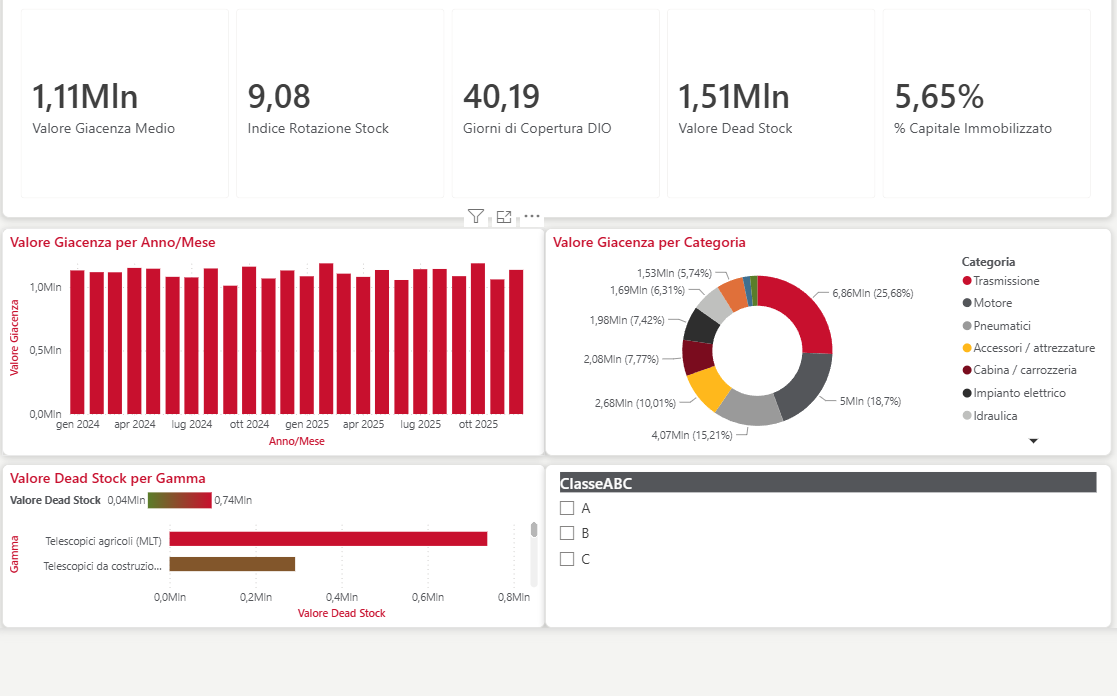

What the dashboard file says about the page in this screenshot:
{"tool":"powerbi","page":{"name":"3 - Inventario","canvas":[1280,720],"ordinal":2},"visuals":[{"type":"cardVisual","fields":{"Data":["fact_inventory_snapshot.Valore Giacenza Medio","fact_inventory_snapshot.Indice Rotazione Stock","fact_inventory_snapshot.Giorni di Copertura DIO","fact_inventory_snapshot.Valore Dead Stock","fact_inventory_snapshot.% Capitale Immobilizzato"]},"box":[9.7,0,1251.8,256.8],"z":0},{"type":"lineChart","fields":{"Category":["dim_date.AnnoMese"],"Y":["fact_inventory_snapshot.Valore Giacenza"]},"box":[9.7,268.4,612.8,256.8],"z":1000},{"type":"clusteredBarChart","fields":{"Category":["dim_product_family.Gamma"],"Y":["fact_inventory_snapshot.Valore Dead Stock"]},"box":[10,535,440,185],"z":2000},{"type":"clusteredBarChart","fields":{"Category":["dim_part_category.Categoria"],"Y":["fact_inventory_snapshot.Valore Giacenza"]},"box":[623,268,639,452],"z":3000},{"type":"slicer","fields":{"Values":["dim_part.ClasseABC"]},"box":[462,535,150,185],"z":4000}]}

Visuals, with their boxes on the page's 1280x720 design canvas (x1, y1, x2, y2). These are canvas units, not pixel positions in the 1117x696 screenshot, which may show the page scaled, cropped or inside an application window:
cardVisual - fact_inventory_snapshot.Valore Giacenza Medio x fact_inventory_snapshot.Indice Rotazione Stock: 10/0/1262/257
lineChart - dim_date.AnnoMese x fact_inventory_snapshot.Valore Giacenza: 10/268/622/525
clusteredBarChart - dim_product_family.Gamma x fact_inventory_snapshot.Valore Dead Stock: 10/535/450/720
clusteredBarChart - dim_part_category.Categoria x fact_inventory_snapshot.Valore Giacenza: 623/268/1262/720
slicer - dim_part.ClasseABC: 462/535/612/720
